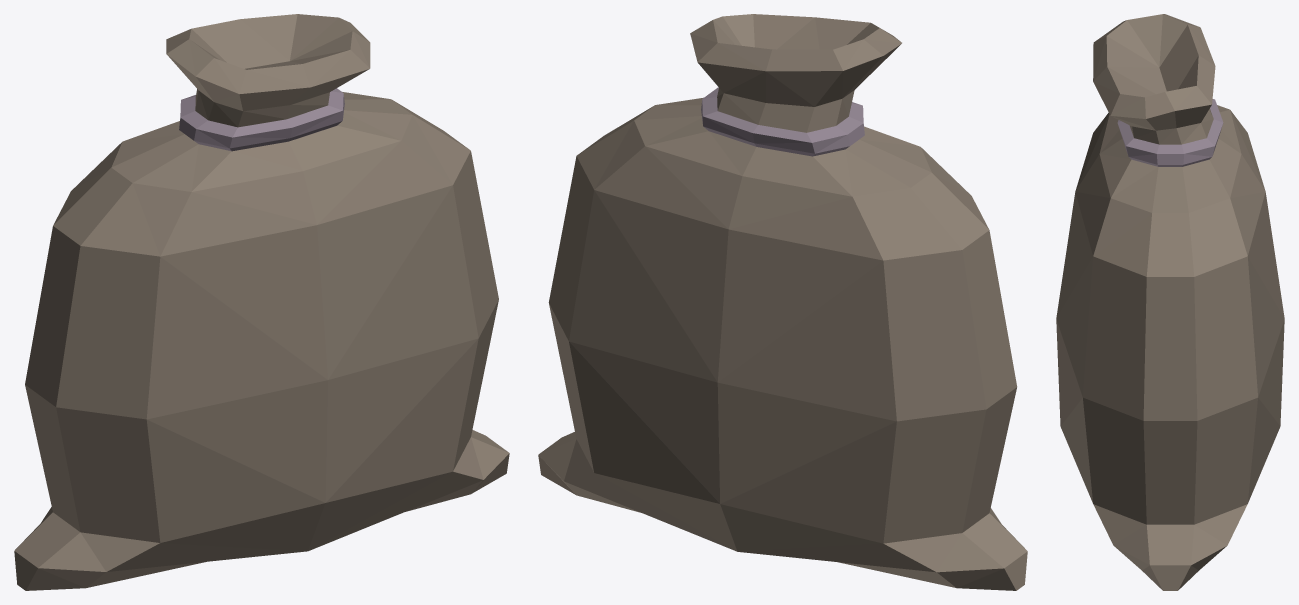
The model's file is SM_Prop_Sack_02.fbx.
3 views of the same model, side by side, from view 1: azimuth 30°, elevation 25°; view 2: azimuth 150°, elevation 25°; view 3: azimuth 270°, elevation 25° (orthographic). The views are drawn at different scales.
Visible parts, largest first — view 1: SM_Prop_Sack_02; view 2: SM_Prop_Sack_02; view 3: SM_Prop_Sack_02.
Part boxes in pixels (<box>): SM_Prop_Sack_02: <box>14,14,509,590</box>; SM_Prop_Sack_02: <box>538,14,1027,590</box>; SM_Prop_Sack_02: <box>1056,14,1284,590</box>.
Size of the model in its own units: 0.00497 by 0.0051 by 0.00236.
1 material, 1 textured.
